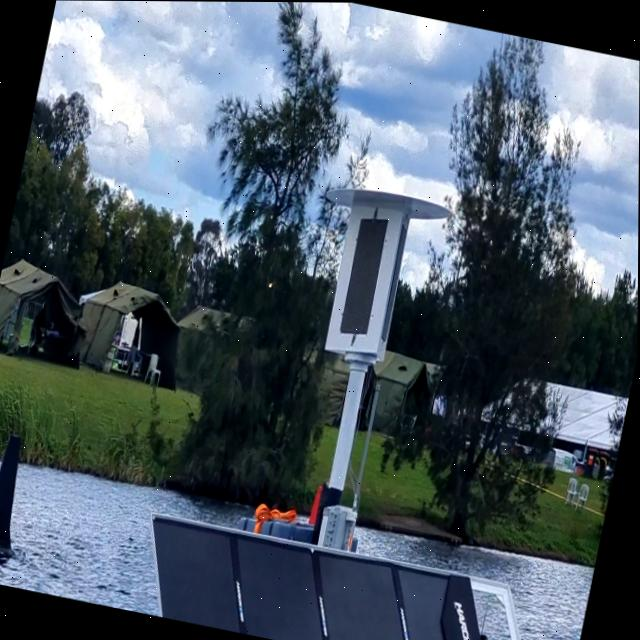led: (329, 205, 399, 349)
